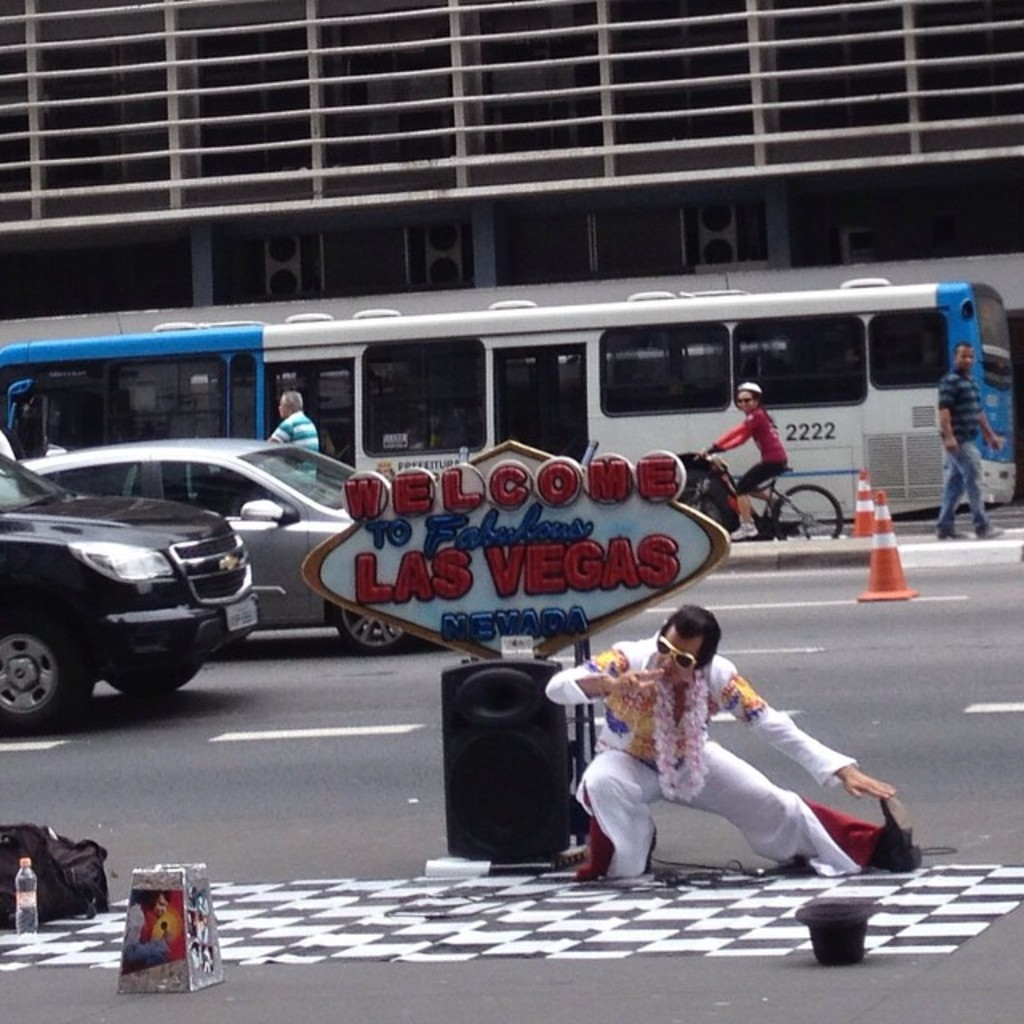Bus: (0, 276, 1019, 521)
